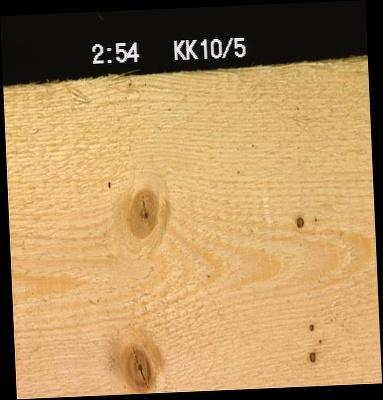dry_knot: (294, 215, 304, 229), (307, 350, 316, 362), (307, 322, 315, 332)
sound_knot: (121, 340, 154, 393), (126, 187, 159, 239)
